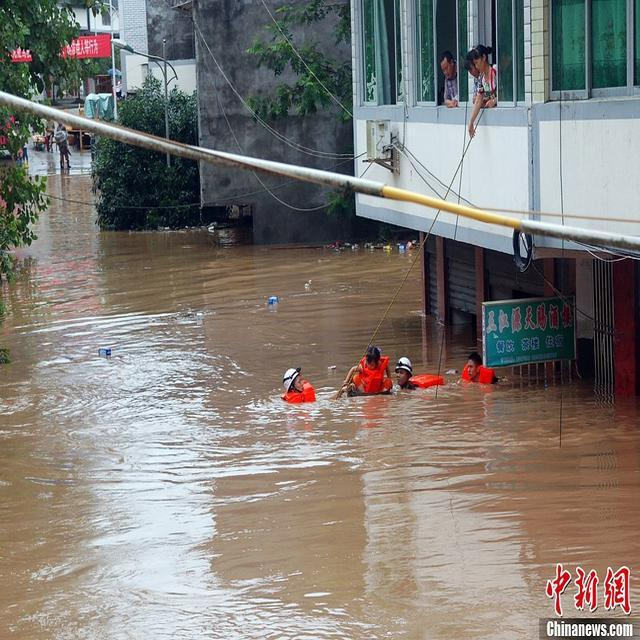Person-RiskLevel3: (344, 345, 398, 403), (384, 348, 449, 395), (268, 361, 328, 407), (458, 348, 501, 401)
